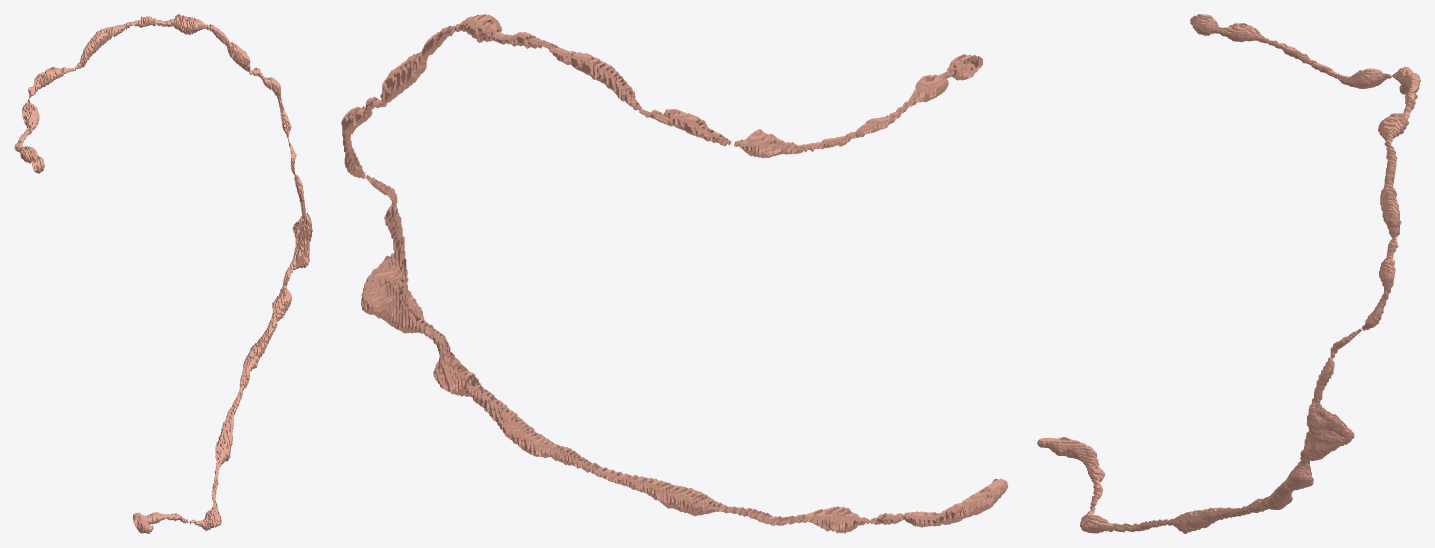
File: SVV_AINL.gltf
3 views of the same model, side by side, from view 1: azimuth 30°, elevation 25°; view 2: azimuth 150°, elevation 25°; view 3: azimuth 270°, elevation 25° (orthographic). The views are drawn at different scales.
Parts seen in each view (by area): view 1: AINL; view 2: AINL; view 3: AINL.
Part boxes in pixels (x1,y1,x2,y2): AINL: [14, 14, 312, 533]; AINL: [341, 14, 1008, 533]; AINL: [1037, 14, 1420, 533].
Bounding box in the file's own units: 138802 × 159623 × 115955.
